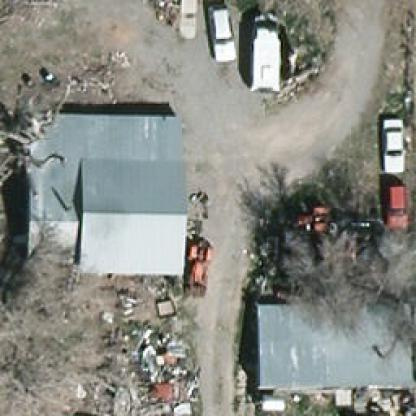camping car: (250, 13, 281, 91)
car: (203, 3, 237, 62), (380, 117, 410, 172), (376, 184, 410, 228)
other: (180, 237, 210, 296)
tractor: (286, 204, 330, 236)
